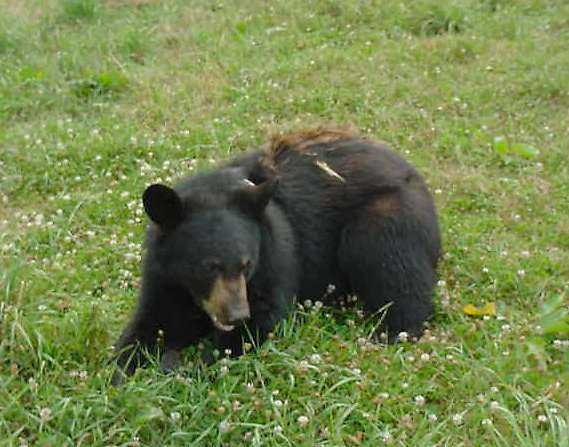bear: (150, 205, 278, 333)
